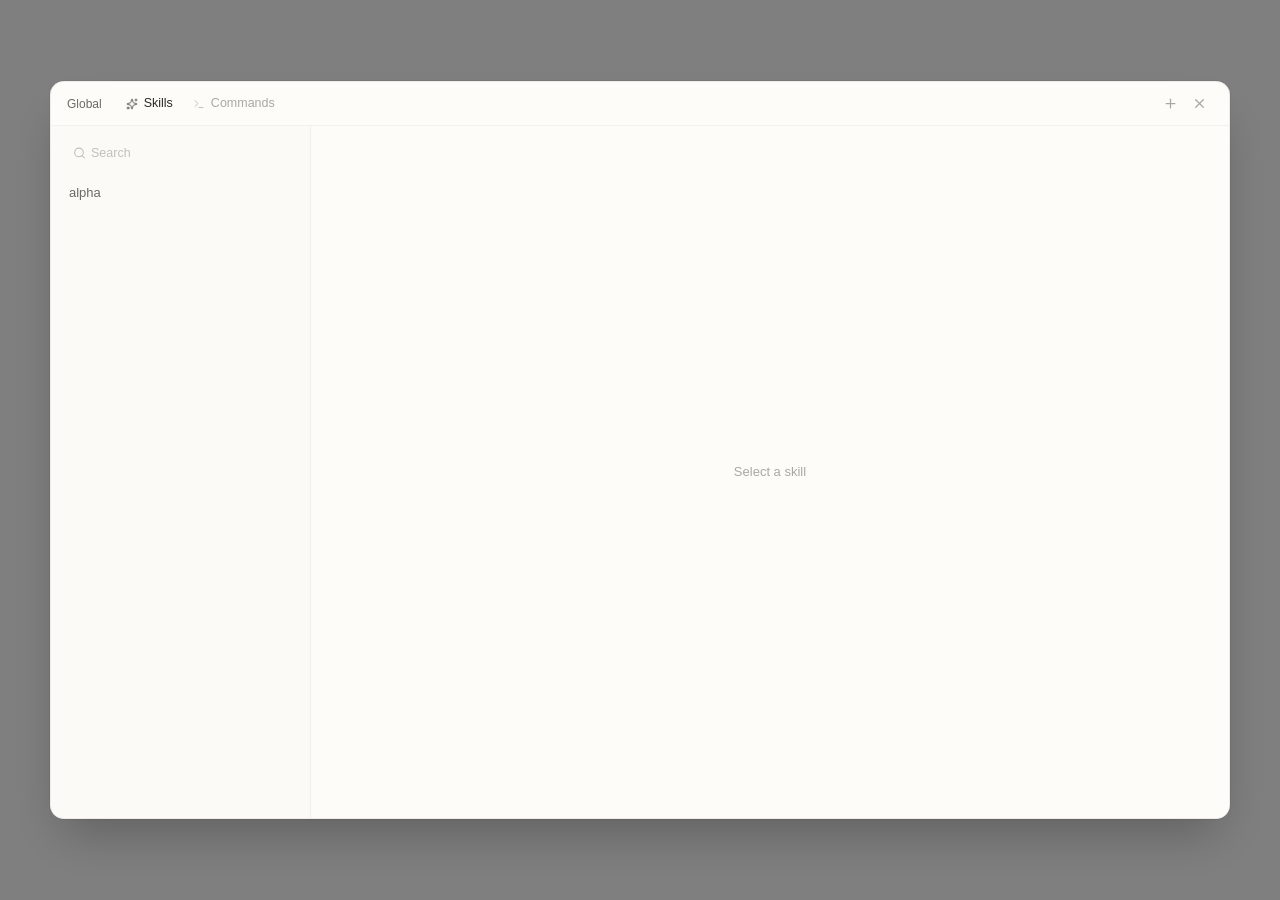
Test case: SkillsDialog › switching tab filters by kind
Expected: the text "alpha" is shown, [69,183,101,202]
Click the tab "Commands" at (234, 104), box [185,90,283,117]
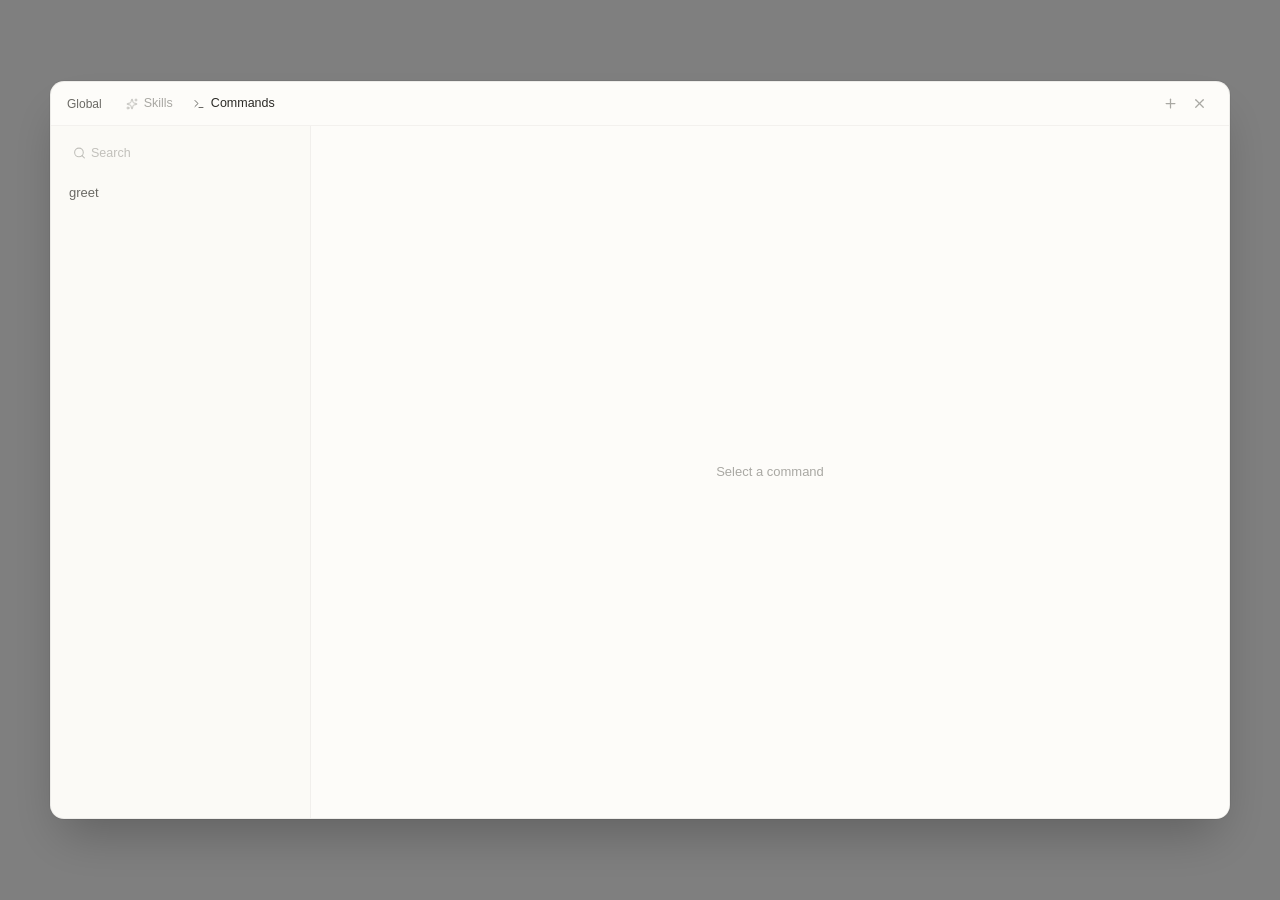
Expected: the button "alpha" is gone
Expected: the text "greet" is shown, [69,183,99,202]
